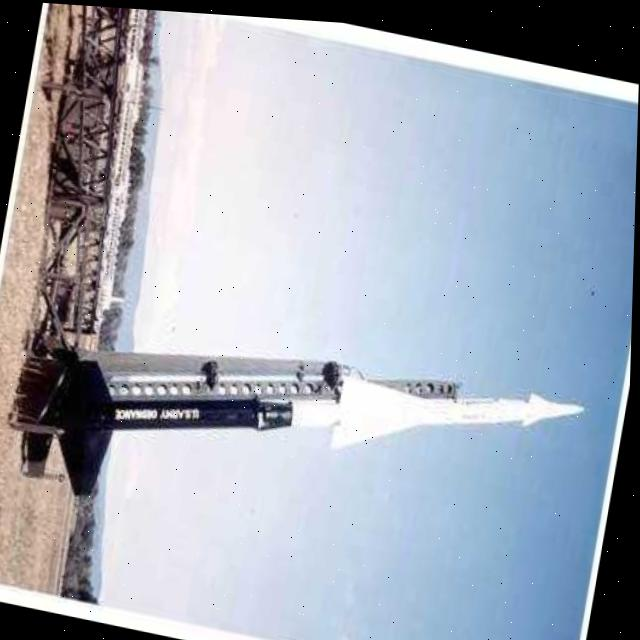missile: (281, 331, 591, 500)
